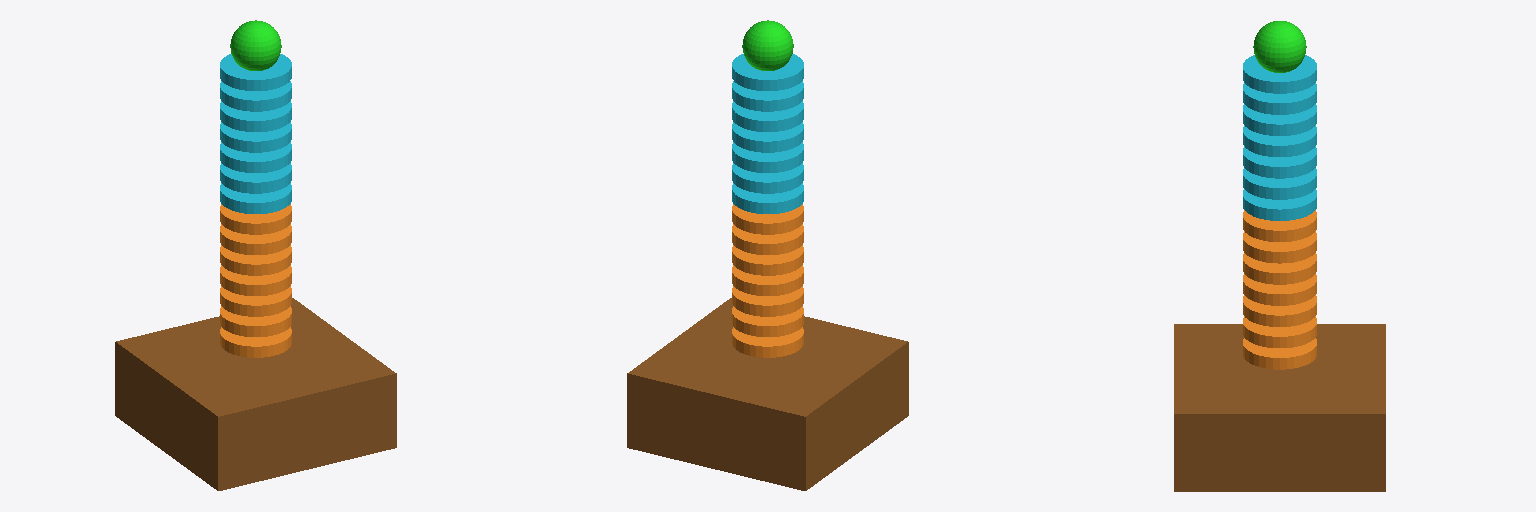
--- What the picture shows (computed from the rendered views, not written in the file) ---
Views: 3 orthographic renders of the robot side by side, from view 1: azimuth 30°, elevation 25°; view 2: azimuth 150°, elevation 25°; view 3: azimuth 270°, elevation 25°.
Model follower_serial_robot with 45 links and 44 joints (28 revolute, 16 fixed), rooted at base_link, posed every joint at zero.
Visible links, largest first — view 1: base_link, end_effector, seg14_mid_link, seg1_mid_link, seg12_mid_link, seg3_mid_link, seg5_mid_link, seg10_mid_link, seg6_mid_link, seg8_mid_link, seg7_mid_link, seg9_mid_link (+4 smaller); view 2: base_link, end_effector, seg14_mid_link, seg1_mid_link, seg12_mid_link, seg3_mid_link, seg5_mid_link, seg10_mid_link, seg6_mid_link, seg8_mid_link, seg7_mid_link, seg9_mid_link (+4 smaller); view 3: base_link, end_effector, seg14_mid_link, seg5_mid_link, seg10_mid_link, seg1_mid_link, seg3_mid_link, seg6_mid_link, seg12_mid_link, seg9_mid_link, seg2_mid_link, seg8_mid_link (+4 smaller).
Boxes of the visible links, x1,y1,x2,y2 form: base_link: (115,298,396,490); end_effector: (230,20,281,70); seg14_mid_link: (220,54,291,90); seg1_mid_link: (220,327,291,357); seg12_mid_link: (220,101,291,131); seg3_mid_link: (220,286,291,316); seg5_mid_link: (220,245,291,275); seg10_mid_link: (220,142,291,172); seg6_mid_link: (220,224,291,254); seg8_mid_link: (220,183,291,213); seg7_mid_link: (220,204,291,234); seg9_mid_link: (220,163,291,193); base_link: (627,298,908,490); end_effector: (742,20,793,70); seg14_mid_link: (732,54,803,90); seg1_mid_link: (732,327,803,357); seg12_mid_link: (732,101,803,131); seg3_mid_link: (732,286,803,316); seg5_mid_link: (732,245,803,275); seg10_mid_link: (732,142,803,172); seg6_mid_link: (732,224,803,254); seg8_mid_link: (732,183,803,213); seg7_mid_link: (732,204,803,234); seg9_mid_link: (732,163,803,193); base_link: (1174,324,1385,491); end_effector: (1253,21,1306,72); seg14_mid_link: (1243,55,1316,93); seg5_mid_link: (1243,253,1316,284); seg10_mid_link: (1243,146,1316,178); seg1_mid_link: (1243,338,1316,369); seg3_mid_link: (1243,295,1316,326); seg6_mid_link: (1243,231,1316,263); seg12_mid_link: (1243,104,1316,135); seg9_mid_link: (1243,168,1316,199); seg2_mid_link: (1243,316,1316,347); seg8_mid_link: (1243,189,1316,220).
Size in the robot's own frame: 0.2 by 0.2 by 0.439 metres.
Geometry: primitives only (box / cylinder / sphere), no mesh files.

URDF robot description (follower_serial_robot):
<?xml version="1.0" ?>
<!-- =================================================================================== -->
<!-- |    This document was autogenerated by xacro from modular_robot_follower.xacro   | -->
<!-- |    EDITING THIS FILE BY HAND IS NOT RECOMMENDED                                 | -->
<!-- =================================================================================== -->
<robot name="follower_serial_robot">
  <!-- 12mm disc thickness -->
  <!-- Base Link -->
  <link name="base_link">
    <visual>
      <origin rpy="0 0 0" xyz="0 0 0.04"/>
      <geometry>
        <box size="0.2 0.2 0.08"/>
      </geometry>
      <material name="brown">
        <color rgba="0.6 0.4 0.2 1.0"/>
      </material>
    </visual>
    <collision>
      <origin rpy="0 0 0" xyz="0 0 0.04"/>
      <geometry>
        <box size="0.2 0.2 0.08"/>
      </geometry>
    </collision>
    <inertial>
      <origin rpy="0 0 0" xyz="0 0 0.04"/>
      <mass value="2.0"/>
      <inertia ixx="0.01" ixy="0" ixz="0" iyy="0.01" iyz="0" izz="0.01"/>
    </inertial>
  </link>
  <!-- Fixed joint from base to first segment mounting point -->
  <joint name="base_to_seg1" type="fixed">
    <parent link="base_link"/>
    <child link="seg1_mount"/>
    <origin rpy="0 0 0" xyz="0 0 0.08"/>
  </joint>
  <link name="seg1_mount">
    <!-- No visual - invisible mounting point -->
    <inertial>
      <mass value="0.01"/>
      <inertia ixx="0.00001" ixy="0" ixz="0" iyy="0.00001" iyz="0" izz="0.00001"/>
    </inertial>
  </link>
  <!-- ===== BOTTOM HALF: 7 segments controlled by seg1 (ORANGE) ===== -->
  <!-- Revolute Joint X (Roll) -->
  <joint name="seg1_joint_x" type="revolute">
    <parent link="seg1_mount"/>
    <child link="seg1_x_link"/>
    <origin rpy="0 0 0" xyz="0 0 0"/>
    <axis xyz="1 0 0"/>
    <limit effort="100" lower="-0.2094" upper="0.2094" velocity="1.0"/>
    <dynamics damping="0.7" friction="0.0"/>
  </joint>
  <link name="seg1_x_link">
    <!-- No visual - invisible joint -->
    <inertial>
      <origin rpy="0 0 0" xyz="0 0 0"/>
      <mass value="0.01"/>
      <inertia ixx="0.00001" ixy="0" ixz="0" iyy="0.00001" iyz="0" izz="0.00001"/>
    </inertial>
  </link>
  <!-- Revolute Joint Y (Pitch) -->
  <joint name="seg1_joint_y" type="revolute">
    <parent link="seg1_x_link"/>
    <child link="seg1_y_link"/>
    <origin rpy="0 0 0" xyz="0 0 0"/>
    <axis xyz="0 1 0"/>
    <limit effort="100" lower="-0.2094" upper="0.2094" velocity="1.0"/>
    <dynamics damping="0.7" friction="0.0"/>
  </joint>
  <link name="seg1_y_link">
    <!-- No visual - invisible joint -->
    <inertial>
      <origin rpy="0 0 0" xyz="0 0 0"/>
      <mass value="0.01"/>
      <inertia ixx="0.00001" ixy="0" ixz="0" iyy="0.00001" iyz="0" izz="0.00001"/>
    </inertial>
  </link>
  <!-- Fixed H distance joint -->
  <joint name="seg1_fixed_h" type="fixed">
    <parent link="seg1_y_link"/>
    <child link="seg1_mid_link"/>
    <origin rpy="0 0 0" xyz="0 0 0.022"/>
  </joint>
  <!-- Middle link with disc platform -->
  <link name="seg1_mid_link">
    <visual>
      <!-- Disc platform only -->
      <origin rpy="0 0 0" xyz="0 0 0"/>
      <geometry>
        <cylinder length="0.012" radius="0.0352"/>
      </geometry>
      <material name="disc_1">
        <color rgba="1.0 0.6 0.2 1.0"/>
      </material>
    </visual>
    <collision>
      <origin rpy="0 0 0" xyz="0 0 0"/>
      <geometry>
        <cylinder length="0.012" radius="0.0352"/>
      </geometry>
    </collision>
    <inertial>
      <origin rpy="0 0 0" xyz="0 0 0"/>
      <mass value="0.5"/>
      <inertia ixx="0.002" ixy="0" ixz="0" iyy="0.002" iyz="0" izz="0.003"/>
    </inertial>
  </link>
  <!-- Revolute Joint X (Roll) -->
  <joint name="seg2_joint_x" type="revolute">
    <parent link="seg1_mid_link"/>
    <child link="seg2_x_link"/>
    <origin rpy="0 0 0" xyz="0 0 0"/>
    <axis xyz="1 0 0"/>
    <limit effort="100" lower="-0.2094" upper="0.2094" velocity="1.0"/>
    <!-- Passive joint - follows control segment -->
    <mimic joint="seg1_joint_x" multiplier="1.0" offset="0.0"/>
    <dynamics damping="0.1" friction="0.0"/>
  </joint>
  <link name="seg2_x_link">
    <!-- No visual - invisible joint -->
    <inertial>
      <origin rpy="0 0 0" xyz="0 0 0"/>
      <mass value="0.01"/>
      <inertia ixx="0.00001" ixy="0" ixz="0" iyy="0.00001" iyz="0" izz="0.00001"/>
    </inertial>
  </link>
  <!-- Revolute Joint Y (Pitch) -->
  <joint name="seg2_joint_y" type="revolute">
    <parent link="seg2_x_link"/>
    <child link="seg2_y_link"/>
    <origin rpy="0 0 0" xyz="0 0 0"/>
    <axis xyz="0 1 0"/>
    <limit effort="100" lower="-0.2094" upper="0.2094" velocity="1.0"/>
    <!-- Passive joint - follows control segment -->
    <mimic joint="seg1_joint_y" multiplier="1.0" offset="0.0"/>
    <dynamics damping="0.1" friction="0.0"/>
  </joint>
  <link name="seg2_y_link">
    <!-- No visual - invisible joint -->
    <inertial>
      <origin rpy="0 0 0" xyz="0 0 0"/>
      <mass value="0.01"/>
      <inertia ixx="0.00001" ixy="0" ixz="0" iyy="0.00001" iyz="0" izz="0.00001"/>
    </inertial>
  </link>
  <!-- Fixed H distance joint -->
  <joint name="seg2_fixed_h" type="fixed">
    <parent link="seg2_y_link"/>
    <child link="seg2_mid_link"/>
    <origin rpy="0 0 0" xyz="0 0 0.022"/>
  </joint>
  <!-- Middle link with disc platform -->
  <link name="seg2_mid_link">
    <visual>
      <!-- Disc platform only -->
      <origin rpy="0 0 0" xyz="0 0 0"/>
      <geometry>
        <cylinder length="0.012" radius="0.0352"/>
      </geometry>
      <material name="disc_2">
        <color rgba="1.0 0.6 0.2 1.0"/>
      </material>
    </visual>
    <collision>
      <origin rpy="0 0 0" xyz="0 0 0"/>
      <geometry>
        <cylinder length="0.012" radius="0.0352"/>
      </geometry>
    </collision>
    <inertial>
      <origin rpy="0 0 0" xyz="0 0 0"/>
      <mass value="0.5"/>
      <inertia ixx="0.002" ixy="0" ixz="0" iyy="0.002" iyz="0" izz="0.003"/>
    </inertial>
  </link>
  <!-- Revolute Joint X (Roll) -->
  <joint name="seg3_joint_x" type="revolute">
    <parent link="seg2_mid_link"/>
    <child link="seg3_x_link"/>
    <origin rpy="0 0 0" xyz="0 0 0"/>
    <axis xyz="1 0 0"/>
    <limit effort="100" lower="-0.2094" upper="0.2094" velocity="1.0"/>
    <!-- Passive joint - follows control segment -->
    <mimic joint="seg1_joint_x" multiplier="1.0" offset="0.0"/>
    <dynamics damping="0.1" friction="0.0"/>
  </joint>
  <link name="seg3_x_link">
    <!-- No visual - invisible joint -->
    <inertial>
      <origin rpy="0 0 0" xyz="0 0 0"/>
      <mass value="0.01"/>
      <inertia ixx="0.00001" ixy="0" ixz="0" iyy="0.00001" iyz="0" izz="0.00001"/>
    </inertial>
  </link>
  <!-- Revolute Joint Y (Pitch) -->
  <joint name="seg3_joint_y" type="revolute">
    <parent link="seg3_x_link"/>
    <child link="seg3_y_link"/>
    <origin rpy="0 0 0" xyz="0 0 0"/>
    <axis xyz="0 1 0"/>
    <limit effort="100" lower="-0.2094" upper="0.2094" velocity="1.0"/>
    <!-- Passive joint - follows control segment -->
    <mimic joint="seg1_joint_y" multiplier="1.0" offset="0.0"/>
    <dynamics damping="0.1" friction="0.0"/>
  </joint>
  <link name="seg3_y_link">
    <!-- No visual - invisible joint -->
    <inertial>
      <origin rpy="0 0 0" xyz="0 0 0"/>
      <mass value="0.01"/>
      <inertia ixx="0.00001" ixy="0" ixz="0" iyy="0.00001" iyz="0" izz="0.00001"/>
    </inertial>
  </link>
  <!-- Fixed H distance joint -->
  <joint name="seg3_fixed_h" type="fixed">
    <parent link="seg3_y_link"/>
    <child link="seg3_mid_link"/>
    <origin rpy="0 0 0" xyz="0 0 0.022"/>
  </joint>
  <!-- Middle link with disc platform -->
  <link name="seg3_mid_link">
    <visual>
      <!-- Disc platform only -->
      <origin rpy="0 0 0" xyz="0 0 0"/>
      <geometry>
        <cylinder length="0.012" radius="0.0352"/>
      </geometry>
      <material name="disc_3">
        <color rgba="1.0 0.6 0.2 1.0"/>
      </material>
    </visual>
    <collision>
      <origin rpy="0 0 0" xyz="0 0 0"/>
      <geometry>
        <cylinder length="0.012" radius="0.0352"/>
      </geometry>
    </collision>
    <inertial>
      <origin rpy="0 0 0" xyz="0 0 0"/>
      <mass value="0.5"/>
      <inertia ixx="0.002" ixy="0" ixz="0" iyy="0.002" iyz="0" izz="0.003"/>
    </inertial>
  </link>
  <!-- Revolute Joint X (Roll) -->
  <joint name="seg4_joint_x" type="revolute">
    <parent link="seg3_mid_link"/>
    <child link="seg4_x_link"/>
    <origin rpy="0 0 0" xyz="0 0 0"/>
    <axis xyz="1 0 0"/>
    <limit effort="100" lower="-0.2094" upper="0.2094" velocity="1.0"/>
    <!-- Passive joint - follows control segment -->
    <mimic joint="seg1_joint_x" multiplier="1.0" offset="0.0"/>
    <dynamics damping="0.1" friction="0.0"/>
  </joint>
  <link name="seg4_x_link">
    <!-- No visual - invisible joint -->
    <inertial>
      <origin rpy="0 0 0" xyz="0 0 0"/>
      <mass value="0.01"/>
      <inertia ixx="0.00001" ixy="0" ixz="0" iyy="0.00001" iyz="0" izz="0.00001"/>
    </inertial>
  </link>
  <!-- Revolute Joint Y (Pitch) -->
  <joint name="seg4_joint_y" type="revolute">
    <parent link="seg4_x_link"/>
    <child link="seg4_y_link"/>
    <origin rpy="0 0 0" xyz="0 0 0"/>
    <axis xyz="0 1 0"/>
    <limit effort="100" lower="-0.2094" upper="0.2094" velocity="1.0"/>
    <!-- Passive joint - follows control segment -->
    <mimic joint="seg1_joint_y" multiplier="1.0" offset="0.0"/>
    <dynamics damping="0.1" friction="0.0"/>
  </joint>
  <link name="seg4_y_link">
    <!-- No visual - invisible joint -->
    <inertial>
      <origin rpy="0 0 0" xyz="0 0 0"/>
      <mass value="0.01"/>
      <inertia ixx="0.00001" ixy="0" ixz="0" iyy="0.00001" iyz="0" izz="0.00001"/>
    </inertial>
  </link>
  <!-- Fixed H distance joint -->
  <joint name="seg4_fixed_h" type="fixed">
    <parent link="seg4_y_link"/>
    <child link="seg4_mid_link"/>
    <origin rpy="0 0 0" xyz="0 0 0.022"/>
  </joint>
  <!-- Middle link with disc platform -->
  <link name="seg4_mid_link">
    <visual>
      <!-- Disc platform only -->
      <origin rpy="0 0 0" xyz="0 0 0"/>
      <geometry>
        <cylinder length="0.012" radius="0.0352"/>
      </geometry>
      <material name="disc_4">
        <color rgba="1.0 0.6 0.2 1.0"/>
      </material>
    </visual>
    <collision>
      <origin rpy="0 0 0" xyz="0 0 0"/>
      <geometry>
        <cylinder length="0.012" radius="0.0352"/>
      </geometry>
    </collision>
    <inertial>
      <origin rpy="0 0 0" xyz="0 0 0"/>
      <mass value="0.5"/>
      <inertia ixx="0.002" ixy="0" ixz="0" iyy="0.002" iyz="0" izz="0.003"/>
    </inertial>
  </link>
  <!-- Revolute Joint X (Roll) -->
  <joint name="seg5_joint_x" type="revolute">
    <parent link="seg4_mid_link"/>
    <child link="seg5_x_link"/>
    <origin rpy="0 0 0" xyz="0 0 0"/>
    <axis xyz="1 0 0"/>
    <limit effort="100" lower="-0.2094" upper="0.2094" velocity="1.0"/>
    <!-- Passive joint - follows control segment -->
    <mimic joint="seg1_joint_x" multiplier="1.0" offset="0.0"/>
    <dynamics damping="0.1" friction="0.0"/>
  </joint>
  <link name="seg5_x_link">
    <!-- No visual - invisible joint -->
    <inertial>
      <origin rpy="0 0 0" xyz="0 0 0"/>
      <mass value="0.01"/>
      <inertia ixx="0.00001" ixy="0" ixz="0" iyy="0.00001" iyz="0" izz="0.00001"/>
    </inertial>
  </link>
  <!-- Revolute Joint Y (Pitch) -->
  <joint name="seg5_joint_y" type="revolute">
    <parent link="seg5_x_link"/>
    <child link="seg5_y_link"/>
    <origin rpy="0 0 0" xyz="0 0 0"/>
    <axis xyz="0 1 0"/>
    <limit effort="100" lower="-0.2094" upper="0.2094" velocity="1.0"/>
    <!-- Passive joint - follows control segment -->
    <mimic joint="seg1_joint_y" multiplier="1.0" offset="0.0"/>
    <dynamics damping="0.1" friction="0.0"/>
  </joint>
  <link name="seg5_y_link">
    <!-- No visual - invisible joint -->
    <inertial>
      <origin rpy="0 0 0" xyz="0 0 0"/>
      <mass value="0.01"/>
      <inertia ixx="0.00001" ixy="0" ixz="0" iyy="0.00001" iyz="0" izz="0.00001"/>
    </inertial>
  </link>
  <!-- Fixed H distance joint -->
  <joint name="seg5_fixed_h" type="fixed">
    <parent link="seg5_y_link"/>
    <child link="seg5_mid_link"/>
    <origin rpy="0 0 0" xyz="0 0 0.022"/>
  </joint>
  <!-- Middle link with disc platform -->
  <link name="seg5_mid_link">
    <visual>
      <!-- Disc platform only -->
      <origin rpy="0 0 0" xyz="0 0 0"/>
      <geometry>
        <cylinder length="0.012" radius="0.0352"/>
      </geometry>
      <material name="disc_5">
        <color rgba="1.0 0.6 0.2 1.0"/>
      </material>
    </visual>
    <collision>
      <origin rpy="0 0 0" xyz="0 0 0"/>
      <geometry>
        <cylinder length="0.012" radius="0.0352"/>
      </geometry>
    </collision>
    <inertial>
      <origin rpy="0 0 0" xyz="0 0 0"/>
      <mass value="0.5"/>
      <inertia ixx="0.002" ixy="0" ixz="0" iyy="0.002" iyz="0" izz="0.003"/>
    </inertial>
  </link>
  <!-- Revolute Joint X (Roll) -->
  <joint name="seg6_joint_x" type="revolute">
    <parent link="seg5_mid_link"/>
    <child link="seg6_x_link"/>
    <origin rpy="0 0 0" xyz="0 0 0"/>
    <axis xyz="1 0 0"/>
    <limit effort="100" lower="-0.2094" upper="0.2094" velocity="1.0"/>
    <!-- Passive joint - follows control segment -->
    <mimic joint="seg1_joint_x" multiplier="1.0" offset="0.0"/>
    <dynamics damping="0.1" friction="0.0"/>
  </joint>
  <link name="seg6_x_link">
    <!-- No visual - invisible joint -->
    <inertial>
      <origin rpy="0 0 0" xyz="0 0 0"/>
      <mass value="0.01"/>
      <inertia ixx="0.00001" ixy="0" ixz="0" iyy="0.00001" iyz="0" izz="0.00001"/>
    </inertial>
  </link>
  <!-- Revolute Joint Y (Pitch) -->
  <joint name="seg6_joint_y" type="revolute">
    <parent link="seg6_x_link"/>
    <child link="seg6_y_link"/>
    <origin rpy="0 0 0" xyz="0 0 0"/>
    <axis xyz="0 1 0"/>
    <limit effort="100" lower="-0.2094" upper="0.2094" velocity="1.0"/>
    <!-- Passive joint - follows control segment -->
    <mimic joint="seg1_joint_y" multiplier="1.0" offset="0.0"/>
    <dynamics damping="0.1" friction="0.0"/>
  </joint>
  <link name="seg6_y_link">
    <!-- No visual - invisible joint -->
    <inertial>
      <origin rpy="0 0 0" xyz="0 0 0"/>
      <mass value="0.01"/>
      <inertia ixx="0.00001" ixy="0" ixz="0" iyy="0.00001" iyz="0" izz="0.00001"/>
    </inertial>
  </link>
  <!-- Fixed H distance joint -->
  <joint name="seg6_fixed_h" type="fixed">
    <parent link="seg6_y_link"/>
    <child link="seg6_mid_link"/>
    <origin rpy="0 0 0" xyz="0 0 0.022"/>
  </joint>
  <!-- Middle link with disc platform -->
  <link name="seg6_mid_link">
    <visual>
      <!-- Disc platform only -->
      <origin rpy="0 0 0" xyz="0 0 0"/>
      <geometry>
        <cylinder length="0.012" radius="0.0352"/>
      </geometry>
      <material name="disc_6">
        <color rgba="1.0 0.6 0.2 1.0"/>
      </material>
    </visual>
    <collision>
      <origin rpy="0 0 0" xyz="0 0 0"/>
      <geometry>
        <cylinder length="0.012" radius="0.0352"/>
      </geometry>
    </collision>
    <inertial>
      <origin rpy="0 0 0" xyz="0 0 0"/>
      <mass value="0.5"/>
      <inertia ixx="0.002" ixy="0" ixz="0" iyy="0.002" iyz="0" izz="0.003"/>
    </inertial>
  </link>
  <!-- Revolute Joint X (Roll) -->
  <joint name="seg7_joint_x" type="revolute">
    <parent link="seg6_mid_link"/>
    <child link="seg7_x_link"/>
    <origin rpy="0 0 0" xyz="0 0 0"/>
    <axis xyz="1 0 0"/>
    <limit effort="100" lower="-0.2094" upper="0.2094" velocity="1.0"/>
    <!-- Passive joint - follows control segment -->
    <mimic joint="seg1_joint_x" multiplier="1.0" offset="0.0"/>
    <dynamics damping="0.1" friction="0.0"/>
  </joint>
  <link name="seg7_x_link">
    <!-- No visual - invisible joint -->
    <inertial>
      <origin rpy="0 0 0" xyz="0 0 0"/>
      <mass value="0.01"/>
      <inertia ixx="0.00001" ixy="0" ixz="0" iyy="0.00001" iyz="0" izz="0.00001"/>
    </inertial>
  </link>
  <!-- Revolute Joint Y (Pitch) -->
  <joint name="seg7_joint_y" type="revolute">
    <parent link="seg7_x_link"/>
    <child link="seg7_y_link"/>
    <origin rpy="0 0 0" xyz="0 0 0"/>
    <axis xyz="0 1 0"/>
    <limit effort="100" lower="-0.2094" upper="0.2094" velocity="1.0"/>
    <!-- Passive joint - follows control segment -->
    <mimic joint="seg1_joint_y" multiplier="1.0" offset="0.0"/>
    <dynamics damping="0.1" friction="0.0"/>
  </joint>
  <link name="seg7_y_link">
    <!-- No visual - invisible joint -->
    <inertial>
      <origin rpy="0 0 0" xyz="0 0 0"/>
      <mass value="0.01"/>
      <inertia ixx="0.00001" ixy="0" ixz="0" iyy="0.00001" iyz="0" izz="0.00001"/>
    </inertial>
  </link>
  <!-- Fixed H distance joint -->
  <joint name="seg7_fixed_h" type="fixed">
    <parent link="seg7_y_link"/>
    <child link="seg7_mid_link"/>
    <origin rpy="0 0 0" xyz="0 0 0.022"/>
  </joint>
  <!-- Middle link with disc platform -->
  <link name="seg7_mid_link">
    <visual>
      <!-- Disc platform only -->
      <origin rpy="0 0 0" xyz="0 0 0"/>
      <geometry>
        <cylinder length="0.012" radius="0.0352"/>
      </geometry>
      <material name="disc_7">
        <color rgba="1.0 0.6 0.2 1.0"/>
      </material>
    </visual>
    <collision>
      <origin rpy="0 0 0" xyz="0 0 0"/>
      <geometry>
        <cylinder length="0.012" radius="0.0352"/>
      </geometry>
    </collision>
    <inertial>
      <origin rpy="0 0 0" xyz="0 0 0"/>
      <mass value="0.5"/>
      <inertia ixx="0.002" ixy="0" ixz="0" iyy="0.002" iyz="0" izz="0.003"/>
    </inertial>
  </link>
  <!-- ===== TOP HALF: 7 segments controlled by seg8 (CYAN) ===== -->
  <!-- Revolute Joint X (Roll) -->
  <joint name="seg8_joint_x" type="revolute">
    <parent link="seg7_mid_link"/>
    <child link="seg8_x_link"/>
    <origin rpy="0 0 0" xyz="0 0 0"/>
    <axis xyz="1 0 0"/>
    <limit effort="100" lower="-0.2094" upper="0.2094" velocity="1.0"/>
    <dynamics damping="0.7" friction="0.0"/>
  </joint>
  <link name="seg8_x_link">
    <!-- No visual - invisible joint -->
    <inertial>
      <origin rpy="0 0 0" xyz="0 0 0"/>
      <mass value="0.01"/>
      <inertia ixx="0.00001" ixy="0" ixz="0" iyy="0.00001" iyz="0" izz="0.00001"/>
    </inertial>
  </link>
  <!-- Revolute Joint Y (Pitch) -->
  <joint name="seg8_joint_y" type="revolute">
    <parent link="seg8_x_link"/>
    <child link="seg8_y_link"/>
    <origin rpy="0 0 0" xyz="0 0 0"/>
    <axis xyz="0 1 0"/>
    <limit effort="100" lower="-0.2094" upper="0.2094" velocity="1.0"/>
    <dynamics damping="0.7" friction="0.0"/>
  </joint>
  <link name="seg8_y_link">
    <!-- No visual - invisible joint -->
    <inertial>
      <origin rpy="0 0 0" xyz="0 0 0"/>
      <mass value="0.01"/>
      <inertia ixx="0.00001" ixy="0" ixz="0" iyy="0.00001" iyz="0" izz="0.00001"/>
    </inertial>
  </link>
  <!-- Fixed H distance joint -->
  <joint name="seg8_fixed_h" type="fixed">
    <parent link="seg8_y_link"/>
    <child link="seg8_mid_link"/>
    <origin rpy="0 0 0" xyz="0 0 0.022"/>
  </joint>
  <!-- Middle link with disc platform -->
  <link name="seg8_mid_link">
    <visual>
      <!-- Disc platform only -->
      <origin rpy="0 0 0" xyz="0 0 0"/>
      <geometry>
        <cylinder length="0.012" radius="0.0352"/>
      </geometry>
      <material name="disc_8">
        <color rgba="0.2 0.8 0.9 1.0"/>
      </material>
    </visual>
    <collision>
      <origin rpy="0 0 0" xyz="0 0 0"/>
      <geometry>
        <cylinder length="0.012" radius="0.0352"/>
      </geometry>
    </collision>
    <inertial>
      <origin rpy="0 0 0" xyz="0 0 0"/>
      <mass value="0.5"/>
      <inertia ixx="0.002" ixy="0" ixz="0" iyy="0.002" iyz="0" izz="0.003"/>
    </inertial>
  </link>
  <!-- Revolute Joint X (Roll) -->
  <joint name="seg9_joint_x" type="revolute">
    <parent link="seg8_mid_link"/>
    <child link="seg9_x_link"/>
    <origin rpy="0 0 0" xyz="0 0 0"/>
    <axis xyz="1 0 0"/>
    <limit effort="100" lower="-0.2094" upper="0.2094" velocity="1.0"/>
    <!-- Passive joint - follows control segment -->
    <mimic joint="seg8_joint_x" multiplier="1.0" offset="0.0"/>
    <dynamics damping="0.1" friction="0.0"/>
  </joint>
  <link name="seg9_x_link">
    <!-- No visual - invisible joint -->
    <inertial>
      <origin rpy="0 0 0" xyz="0 0 0"/>
      <mass value="0.01"/>
      <inertia ixx="0.00001" ixy="0" ixz="0" iyy="0.00001" iyz="0" izz="0.00001"/>
    </inertial>
  </link>
  <!-- Revolute Joint Y (Pitch) -->
  <joint name="seg9_joint_y" type="revolute">
    <parent link="seg9_x_link"/>
    <child link="seg9_y_link"/>
    <origin rpy="0 0 0" xyz="0 0 0"/>
    <axis xyz="0 1 0"/>
    <limit effort="100" lower="-0.2094" upper="0.2094" velocity="1.0"/>
    <!-- Passive joint - follows control segment -->
    <mimic joint="seg8_joint_y" multiplier="1.0" offset="0.0"/>
    <dynamics damping="0.1" friction="0.0"/>
  </joint>
  <link name="seg9_y_link">
    <!-- No visual - invisible joint -->
    <inertial>
      <origin rpy="0 0 0" xyz="0 0 0"/>
      <mass value="0.01"/>
      <inertia ixx="0.00001" ixy="0" ixz="0" iyy="0.00001" iyz="0" izz="0.00001"/>
    </inertial>
  </link>
  <!-- Fixed H distance joint -->
  <joint name="seg9_fixed_h" type="fixed">
    <parent link="seg9_y_link"/>
    <child link="seg9_mid_link"/>
    <origin rpy="0 0 0" xyz="0 0 0.022"/>
  </joint>
  <!-- Middle link with disc platform -->
  <link name="seg9_mid_link">
    <visual>
      <!-- Disc platform only -->
      <origin rpy="0 0 0" xyz="0 0 0"/>
      <geometry>
        <cylinder length="0.012" radius="0.0352"/>
      </geometry>
      <material name="disc_9">
        <color rgba="0.2 0.8 0.9 1.0"/>
      </material>
    </visual>
    <collision>
      <origin rpy="0 0 0" xyz="0 0 0"/>
      <geometry>
        <cylinder length="0.012" radius="0.0352"/>
      </geometry>
    </collision>
    <inertial>
      <origin rpy="0 0 0" xyz="0 0 0"/>
      <mass value="0.5"/>
      <inertia ixx="0.002" ixy="0" ixz="0" iyy="0.002" iyz="0" izz="0.003"/>
    </inertial>
  </link>
  <!-- Revolute Joint X (Roll) -->
  <joint name="seg10_joint_x" type="revolute">
    <parent link="seg9_mid_link"/>
    <child link="seg10_x_link"/>
    <origin rpy="0 0 0" xyz="0 0 0"/>
    <axis xyz="1 0 0"/>
    <limit effort="100" lower="-0.2094" upper="0.2094" velocity="1.0"/>
    <!-- Passive joint - follows control segment -->
    <mimic joint="seg8_joint_x" multiplier="1.0" offset="0.0"/>
    <dynamics damping="0.1" friction="0.0"/>
  </joint>
  <link name="seg10_x_link">
    <!-- No visual - invisible joint -->
    <inertial>
      <origin rpy="0 0 0" xyz="0 0 0"/>
      <mass value="0.01"/>
      <inertia ixx="0.00001" ixy="0" ixz="0" iyy="0.00001" iyz="0" izz="0.00001"/>
    </inertial>
  </link>
  <!-- Revolute Joint Y (Pitch) -->
  <joint name="seg10_joint_y" type="revolute">
    <parent link="seg10_x_link"/>
    <child link="seg10_y_link"/>
    <origin rpy="0 0 0" xyz="0 0 0"/>
    <axis xyz="0 1 0"/>
    <limit effort="100" lower="-0.2094" upper="0.2094" velocity="1.0"/>
    <!-- Passive joint - follows control segment -->
    <mimic joint="seg8_joint_y" multiplier="1.0" offset="0.0"/>
    <dynamics damping="0.1" friction="0.0"/>
  </joint>
  <link name="seg10_y_link">
    <!-- No visual - invisible joint -->
    <inertial>
      <origin rpy="0 0 0" xyz="0 0 0"/>
      <mass value="0.01"/>
      <inertia ixx="0.00001" ixy="0" ixz="0" iyy="0.00001" iyz="0" izz="0.00001"/>
    </inertial>
  </link>
  <!-- Fixed H distance joint -->
  <joint name="seg10_fixed_h" type="fixed">
    <parent link="seg10_y_link"/>
    <child link="seg10_mid_link"/>
    <origin rpy="0 0 0" xyz="0 0 0.022"/>
  </joint>
  <!-- Middle link with disc platform -->
  <link name="seg10_mid_link">
    <visual>
      <!-- Disc platform only -->
      <origin rpy="0 0 0" xyz="0 0 0"/>
      <geometry>
        <cylinder length="0.012" radius="0.0352"/>
      </geometry>
      <material name="disc_10">
        <color rgba="0.2 0.8 0.9 1.0"/>
      </material>
    </visual>
    <collision>
      <origin rpy="0 0 0" xyz="0 0 0"/>
      <geometry>
        <cylinder length="0.012" radius="0.0352"/>
      </geometry>
    </collision>
    <inertial>
      <origin rpy="0 0 0" xyz="0 0 0"/>
      <mass value="0.5"/>
      <inertia ixx="0.002" ixy="0" ixz="0" iyy="0.002" iyz="0" izz="0.003"/>
    </inertial>
  </link>
  <!-- Revolute Joint X (Roll) -->
  <joint name="seg11_joint_x" type="revolute">
    <parent link="seg10_mid_link"/>
    <child link="seg11_x_link"/>
    <origin rpy="0 0 0" xyz="0 0 0"/>
    <axis xyz="1 0 0"/>
    <limit effort="100" lower="-0.2094" upper="0.2094" velocity="1.0"/>
    <!-- Passive joint - follows control segment -->
    <mimic joint="seg8_joint_x" multiplier="1.0" offset="0.0"/>
    <dynamics damping="0.1" friction="0.0"/>
  </joint>
  <link name="seg11_x_link">
    <!-- No visual - invisible joint -->
    <inertial>
      <origin rpy="0 0 0" xyz="0 0 0"/>
      <mass value="0.01"/>
      <inertia ixx="0.00001" ixy="0" ixz="0" iyy="0.00001" iyz="0" izz="0.00001"/>
    </inertial>
  </link>
  <!-- Revolute Joint Y (Pitch) -->
  <joint name="seg11_joint_y" type="revolute">
    <parent link="seg11_x_link"/>
    <child link="seg11_y_link"/>
    <origin rpy="0 0 0" xyz="0 0 0"/>
    <axis xyz="0 1 0"/>
    <limit effort="100" lower="-0.2094" upper="0.2094" velocity="1.0"/>
    <!-- Passive joint - follows control segment -->
    <mimic joint="seg8_joint_y" multiplier="1.0" offset="0.0"/>
    <dynamics damping="0.1" friction="0.0"/>
  </joint>
  <link name="seg11_y_link">
    <!-- No visual - invisible joint -->
    <inertial>
      <origin rpy="0 0 0" xyz="0 0 0"/>
      <mass value="0.01"/>
      <inertia ixx="0.00001" ixy="0" ixz="0" iyy="0.00001" iyz="0" izz="0.00001"/>
    </inertial>
  </link>
  <!-- Fixed H distance joint -->
  <joint name="seg11_fixed_h" type="fixed">
    <parent link="seg11_y_link"/>
    <child link="seg11_mid_link"/>
    <origin rpy="0 0 0" xyz="0 0 0.022"/>
  </joint>
  <!-- Middle link with disc platform -->
  <link name="seg11_mid_link">
    <visual>
      <!-- Disc platform only -->
      <origin rpy="0 0 0" xyz="0 0 0"/>
      <geometry>
        <cylinder length="0.012" radius="0.0352"/>
      </geometry>
      <material name="disc_11">
        <color rgba="0.2 0.8 0.9 1.0"/>
      </material>
    </visual>
    <collision>
      <origin rpy="0 0 0" xyz="0 0 0"/>
      <geometry>
        <cylinder length="0.012" radius="0.0352"/>
      </geometry>
    </collision>
    <inertial>
      <origin rpy="0 0 0" xyz="0 0 0"/>
      <mass value="0.5"/>
      <inertia ixx="0.002" ixy="0" ixz="0" iyy="0.002" iyz="0" izz="0.003"/>
    </inertial>
  </link>
  <!-- Revolute Joint X (Roll) -->
  <joint name="seg12_joint_x" type="revolute">
    <parent link="seg11_mid_link"/>
    <child link="seg12_x_link"/>
    <origin rpy="0 0 0" xyz="0 0 0"/>
    <axis xyz="1 0 0"/>
    <limit effort="100" lower="-0.2094" upper="0.2094" velocity="1.0"/>
    <!-- Passive joint - follows control segment -->
    <mimic joint="seg8_joint_x" multiplier="1.0" offset="0.0"/>
    <dynamics damping="0.1" friction="0.0"/>
  </joint>
  <link name="seg12_x_link">
    <!-- No visual - invisible joint -->
    <inertial>
      <origin rpy="0 0 0" xyz="0 0 0"/>
      <mass value="0.01"/>
      <inertia ixx="0.00001" ixy="0" ixz="0" iyy="0.00001" iyz="0" izz="0.00001"/>
    </inertial>
  </link>
  <!-- Revolute Joint Y (Pitch) -->
  <joint name="seg12_joint_y" type="revolute">
    <parent link="seg12_x_link"/>
    <child link="seg12_y_link"/>
    <origin rpy="0 0 0" xyz="0 0 0"/>
    <axis xyz="0 1 0"/>
    <limit effort="100" lower="-0.2094" upper="0.2094" velocity="1.0"/>
    <!-- Passive joint - follows control segment -->
    <mimic joint="seg8_joint_y" multiplier="1.0" offset="0.0"/>
    <dynamics damping="0.1" friction="0.0"/>
  </joint>
  <link name="seg12_y_link">
    <!-- No visual - invisible joint -->
    <inertial>
      <origin rpy="0 0 0" xyz="0 0 0"/>
      <mass value="0.01"/>
      <inertia ixx="0.00001" ixy="0" ixz="0" iyy="0.00001" iyz="0" izz="0.00001"/>
    </inertial>
  </link>
  <!-- Fixed H distance joint -->
  <joint name="seg12_fixed_h" type="fixed">
    <parent link="seg12_y_link"/>
    <child link="seg12_mid_link"/>
    <origin rpy="0 0 0" xyz="0 0 0.022"/>
  </joint>
  <!-- Middle link with disc platform -->
  <link name="seg12_mid_link">
    <visual>
      <!-- Disc platform only -->
      <origin rpy="0 0 0" xyz="0 0 0"/>
      <geometry>
        <cylinder length="0.012" radius="0.0352"/>
      </geometry>
      <material name="disc_12">
        <color rgba="0.2 0.8 0.9 1.0"/>
      </material>
    </visual>
    <collision>
      <origin rpy="0 0 0" xyz="0 0 0"/>
      <geometry>
        <cylinder length="0.012" radius="0.0352"/>
      </geometry>
    </collision>
    <inertial>
      <origin rpy="0 0 0" xyz="0 0 0"/>
      <mass value="0.5"/>
      <inertia ixx="0.002" ixy="0" ixz="0" iyy="0.002" iyz="0" izz="0.003"/>
    </inertial>
  </link>
  <!-- Revolute Joint X (Roll) -->
  <joint name="seg13_joint_x" type="revolute">
    <parent link="seg12_mid_link"/>
    <child link="seg13_x_link"/>
    <origin rpy="0 0 0" xyz="0 0 0"/>
    <axis xyz="1 0 0"/>
    <limit effort="100" lower="-0.2094" upper="0.2094" velocity="1.0"/>
    <!-- Passive joint - follows control segment -->
    <mimic joint="seg8_joint_x" multiplier="1.0" offset="0.0"/>
    <dynamics damping="0.1" friction="0.0"/>
  </joint>
  <link name="seg13_x_link">
    <!-- No visual - invisible joint -->
    <inertial>
      <origin rpy="0 0 0" xyz="0 0 0"/>
      <mass value="0.01"/>
      <inertia ixx="0.00001" ixy="0" ixz="0" iyy="0.00001" iyz="0" izz="0.00001"/>
    </inertial>
  </link>
  <!-- Revolute Joint Y (Pitch) -->
  <joint name="seg13_joint_y" type="revolute">
    <parent link="seg13_x_link"/>
    <child link="seg13_y_link"/>
    <origin rpy="0 0 0" xyz="0 0 0"/>
    <axis xyz="0 1 0"/>
    <limit effort="100" lower="-0.2094" upper="0.2094" velocity="1.0"/>
    <!-- Passive joint - follows control segment -->
    <mimic joint="seg8_joint_y" multiplier="1.0" offset="0.0"/>
    <dynamics damping="0.1" friction="0.0"/>
  </joint>
  <link name="seg13_y_link">
    <!-- No visual - invisible joint -->
    <inertial>
      <origin rpy="0 0 0" xyz="0 0 0"/>
      <mass value="0.01"/>
      <inertia ixx="0.00001" ixy="0" ixz="0" iyy="0.00001" iyz="0" izz="0.00001"/>
    </inertial>
  </link>
  <!-- Fixed H distance joint -->
  <joint name="seg13_fixed_h" type="fixed">
    <parent link="seg13_y_link"/>
    <child link="seg13_mid_link"/>
    <origin rpy="0 0 0" xyz="0 0 0.022"/>
  </joint>
  <!-- Middle link with disc platform -->
  <link name="seg13_mid_link">
    <visual>
      <!-- Disc platform only -->
      <origin rpy="0 0 0" xyz="0 0 0"/>
      <geometry>
        <cylinder length="0.012" radius="0.0352"/>
      </geometry>
      <material name="disc_13">
        <color rgba="0.2 0.8 0.9 1.0"/>
      </material>
    </visual>
    <collision>
      <origin rpy="0 0 0" xyz="0 0 0"/>
      <geometry>
        <cylinder length="0.012" radius="0.0352"/>
      </geometry>
    </collision>
    <inertial>
      <origin rpy="0 0 0" xyz="0 0 0"/>
      <mass value="0.5"/>
      <inertia ixx="0.002" ixy="0" ixz="0" iyy="0.002" iyz="0" izz="0.003"/>
    </inertial>
  </link>
  <!-- Revolute Joint X (Roll) -->
  <joint name="seg14_joint_x" type="revolute">
    <parent link="seg13_mid_link"/>
    <child link="seg14_x_link"/>
    <origin rpy="0 0 0" xyz="0 0 0"/>
    <axis xyz="1 0 0"/>
    <limit effort="100" lower="-0.2094" upper="0.2094" velocity="1.0"/>
    <!-- Passive joint - follows control segment -->
    <mimic joint="seg8_joint_x" multiplier="1.0" offset="0.0"/>
    <dynamics damping="0.1" friction="0.0"/>
  </joint>
  <link name="seg14_x_link">
    <!-- No visual - invisible joint -->
    <inertial>
      <origin rpy="0 0 0" xyz="0 0 0"/>
      <mass value="0.01"/>
      <inertia ixx="0.00001" ixy="0" ixz="0" iyy="0.00001" iyz="0" izz="0.00001"/>
    </inertial>
  </link>
  <!-- Revolute Joint Y (Pitch) -->
  <joint name="seg14_joint_y" type="revolute">
    <parent link="seg14_x_link"/>
    <child link="seg14_y_link"/>
    <origin rpy="0 0 0" xyz="0 0 0"/>
    <axis xyz="0 1 0"/>
    <limit effort="100" lower="-0.2094" upper="0.2094" velocity="1.0"/>
    <!-- Passive joint - follows control segment -->
    <mimic joint="seg8_joint_y" multiplier="1.0" offset="0.0"/>
    <dynamics damping="0.1" friction="0.0"/>
  </joint>
  <link name="seg14_y_link">
    <!-- No visual - invisible joint -->
    <inertial>
      <origin rpy="0 0 0" xyz="0 0 0"/>
      <mass value="0.01"/>
      <inertia ixx="0.00001" ixy="0" ixz="0" iyy="0.00001" iyz="0" izz="0.00001"/>
    </inertial>
  </link>
  <!-- Fixed H distance joint -->
  <joint name="seg14_fixed_h" type="fixed">
    <parent link="seg14_y_link"/>
    <child link="seg14_mid_link"/>
    <origin rpy="0 0 0" xyz="0 0 0.022"/>
  </joint>
  <!-- Middle link with disc platform -->
  <link name="seg14_mid_link">
    <visual>
      <!-- Disc platform only -->
      <origin rpy="0 0 0" xyz="0 0 0"/>
      <geometry>
        <cylinder length="0.012" radius="0.0352"/>
      </geometry>
      <material name="disc_14">
        <color rgba="0.2 0.8 0.9 1.0"/>
      </material>
    </visual>
    <collision>
      <origin rpy="0 0 0" xyz="0 0 0"/>
      <geometry>
        <cylinder length="0.012" radius="0.0352"/>
      </geometry>
    </collision>
    <inertial>
      <origin rpy="0 0 0" xyz="0 0 0"/>
      <mass value="0.5"/>
      <inertia ixx="0.002" ixy="0" ixz="0" iyy="0.002" iyz="0" izz="0.003"/>
    </inertial>
  </link>
  <!-- End Effector -->
  <joint name="ee_joint" type="fixed">
    <parent link="seg14_mid_link"/>
    <child link="end_effector"/>
    <origin rpy="0 0 0" xyz="0 0 0.006"/>
  </joint>
  <link name="end_effector">
    <visual>
      <origin rpy="0 0 0" xyz="0 0 0.02"/>
      <geometry>
        <sphere radius="0.025"/>
      </geometry>
      <material name="green">
        <color rgba="0.2 0.9 0.2 1.0"/>
      </material>
    </visual>
    <inertial>
      <mass value="0.01"/>
      <inertia ixx="0.00001" ixy="0" ixz="0" iyy="0.00001" iyz="0" izz="0.00001"/>
    </inertial>
  </link>
</robot>
